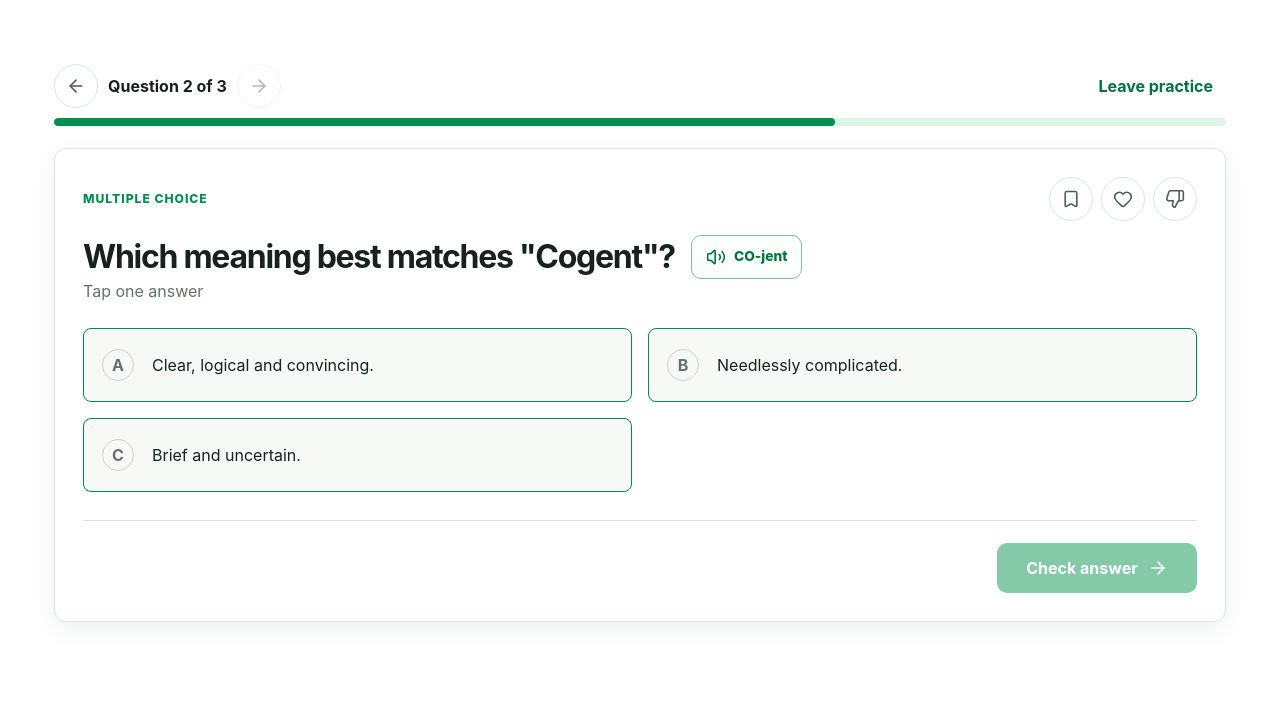
Test: PracticePage locked answer review › locks persisted answers, keeps the frontier progress and preserves the current draft
Expected: the heading "Which meaning best matches \"Cogent\"?" is shown, x1=83 y1=238 x2=675 y2=276
Click the button "A Clear, logical and convincing.": (358, 365) x1=83 y1=328 x2=632 y2=402
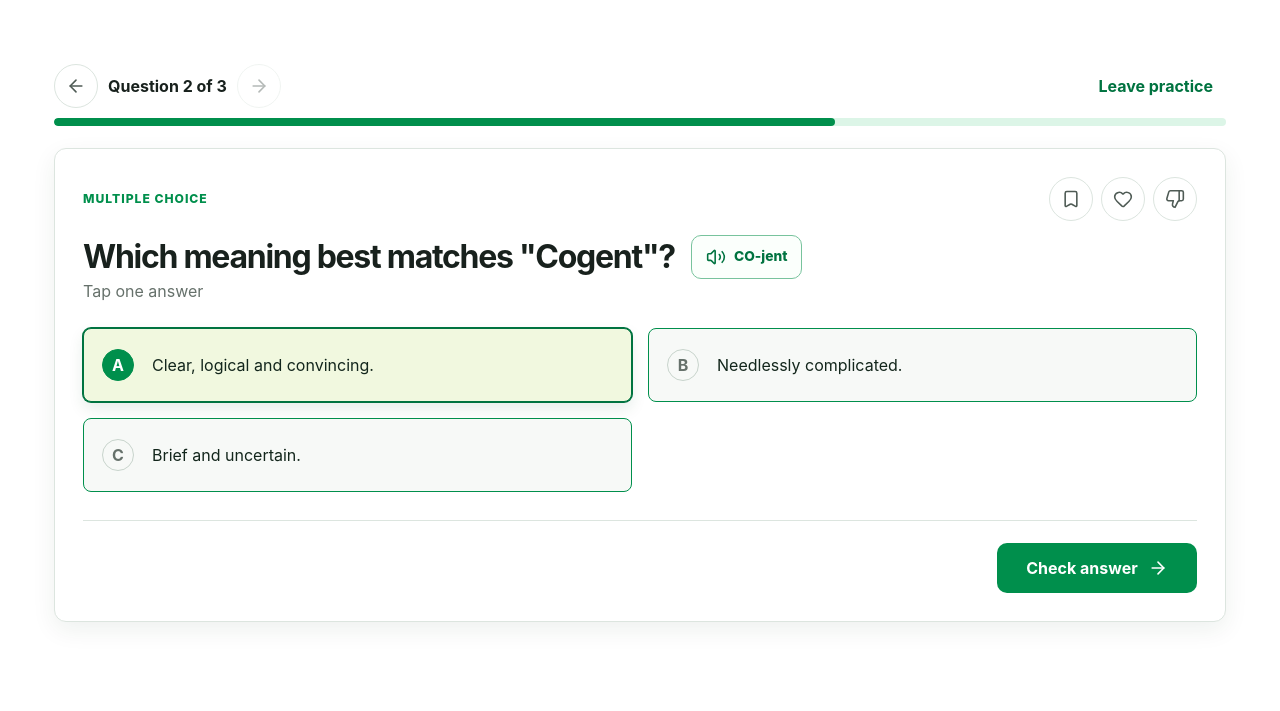
Now the button "A Clear, logical and convincing." has class "is-selected", box x1=83 y1=328 x2=632 y2=402
Click the button named "Previous question": (76, 86) x1=54 y1=64 x2=98 y2=108
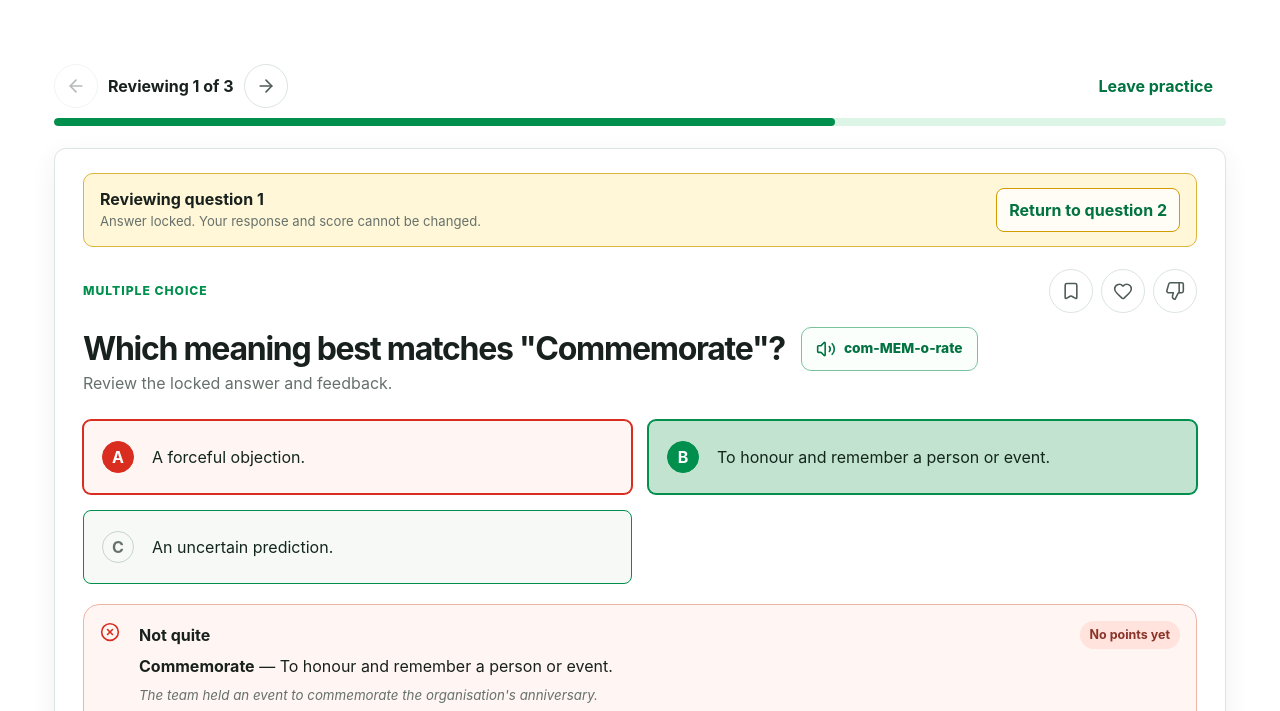
Now the text "Answer locked. Your response and score cannot be changed." is shown, box x1=100 y1=212 x2=481 y2=231
Now the text "Reviewing question 1" is shown, box x1=100 y1=189 x2=264 y2=209
Now the button "A A forceful objection." is disabled, box x1=83 y1=420 x2=632 y2=494
Click the button "Return to question 2": (1088, 210) x1=996 y1=188 x2=1180 y2=232
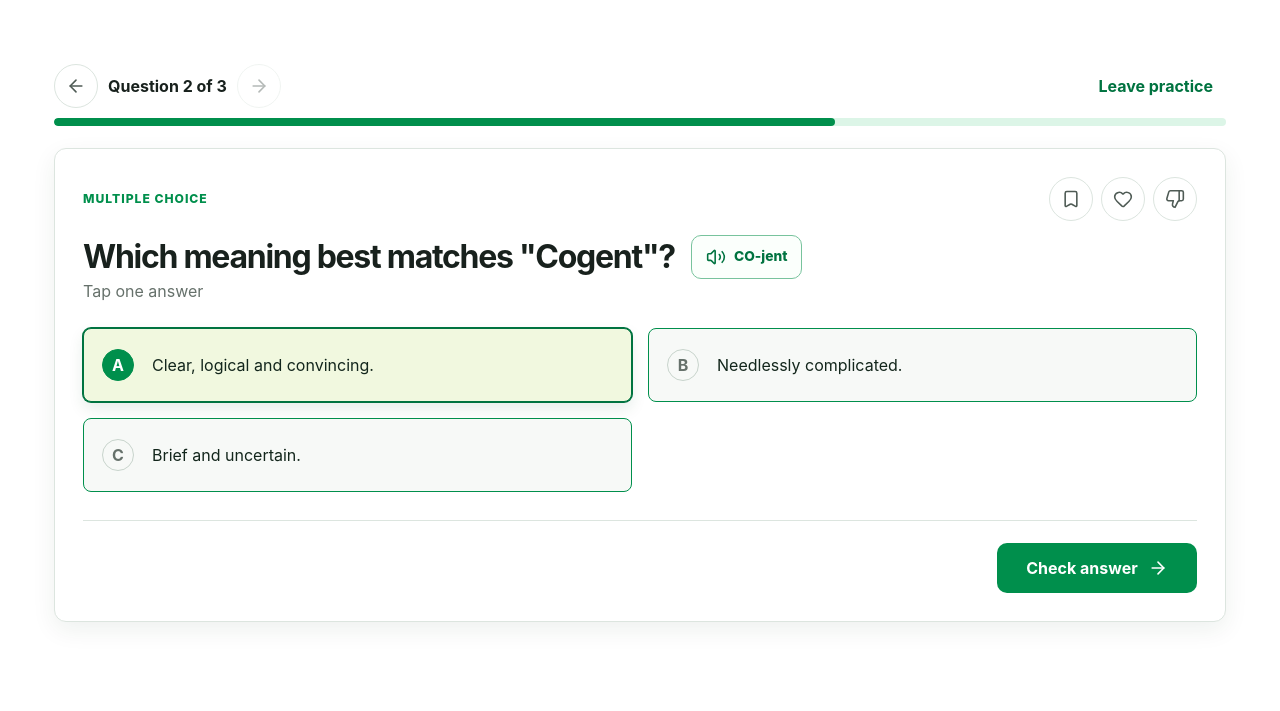
Expected: the element named "67% complete" is shown, x1=54 y1=118 x2=1226 y2=126
Now the button "Check answer" is enabled, box x1=997 y1=543 x2=1197 y2=593
Now the heading "Which meaning best matches \"Cogent\"?" is shown, box x1=83 y1=238 x2=675 y2=276
